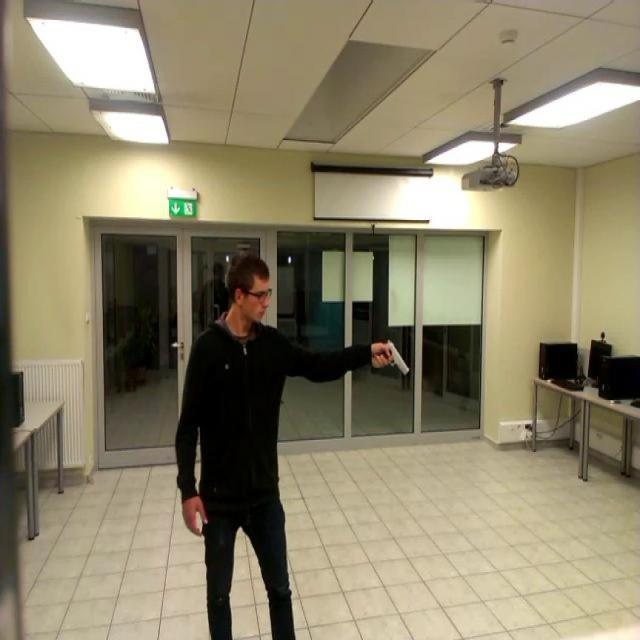pistol: (376, 338, 410, 375)
